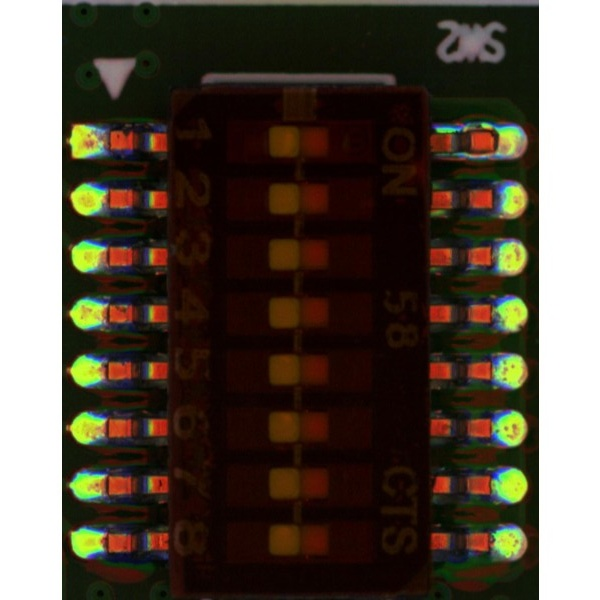Bad_podu: (430, 122, 494, 132), (431, 152, 492, 161), (95, 247, 118, 267), (90, 476, 113, 494), (94, 305, 117, 323), (92, 418, 112, 436), (95, 363, 114, 380), (97, 533, 113, 553)
